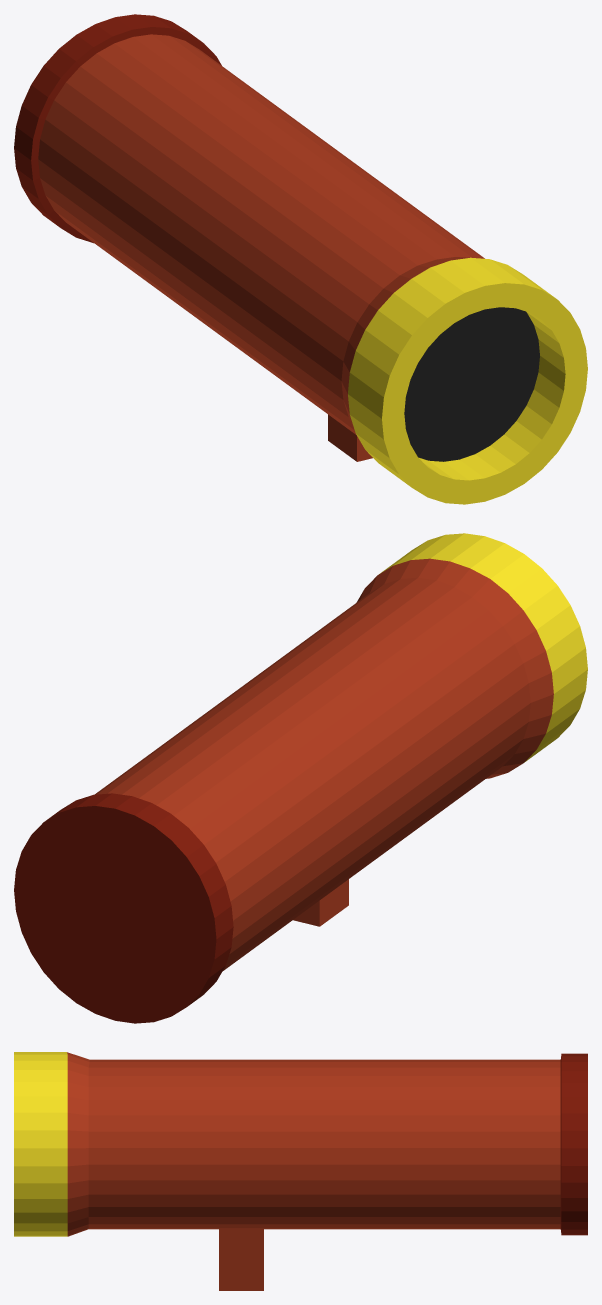
File: bazooka.glb
3 views of the same model, one above another, from view 1: azimuth 30°, elevation 25°; view 2: azimuth 150°, elevation 25°; view 3: azimuth 270°, elevation 25° (orthographic). The views are drawn at different scales.
Parts seen in each view (by area): view 1: mesh; view 2: mesh; view 3: mesh.
Part boxes in pixels (x1,y1,x2,y2): mesh: [14, 14, 587, 504]; mesh: [14, 533, 587, 1023]; mesh: [14, 1052, 587, 1290].
Bounding box in the file's own units: 0.3189 × 0.4048 × 0.9909.
Materials: 1 (1 with a texture image).
